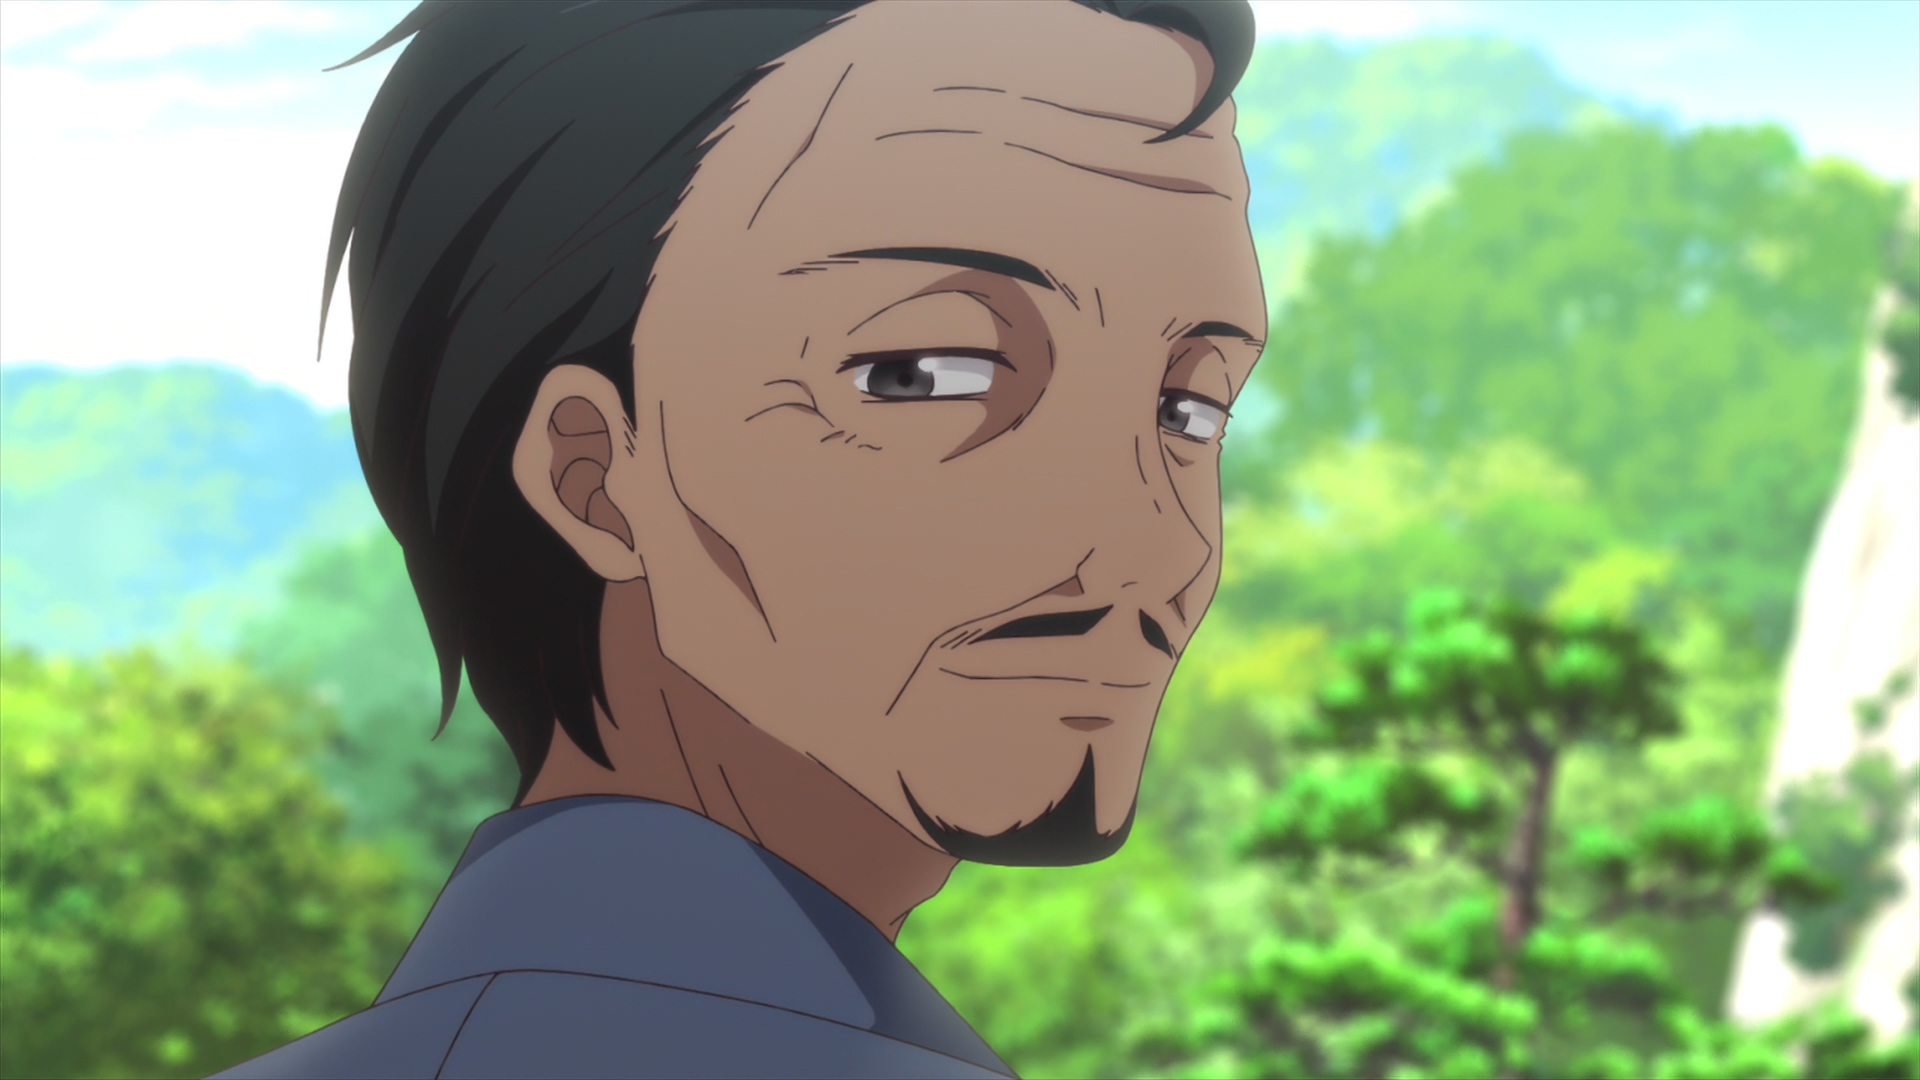其他: (202, 1, 1269, 1080)
